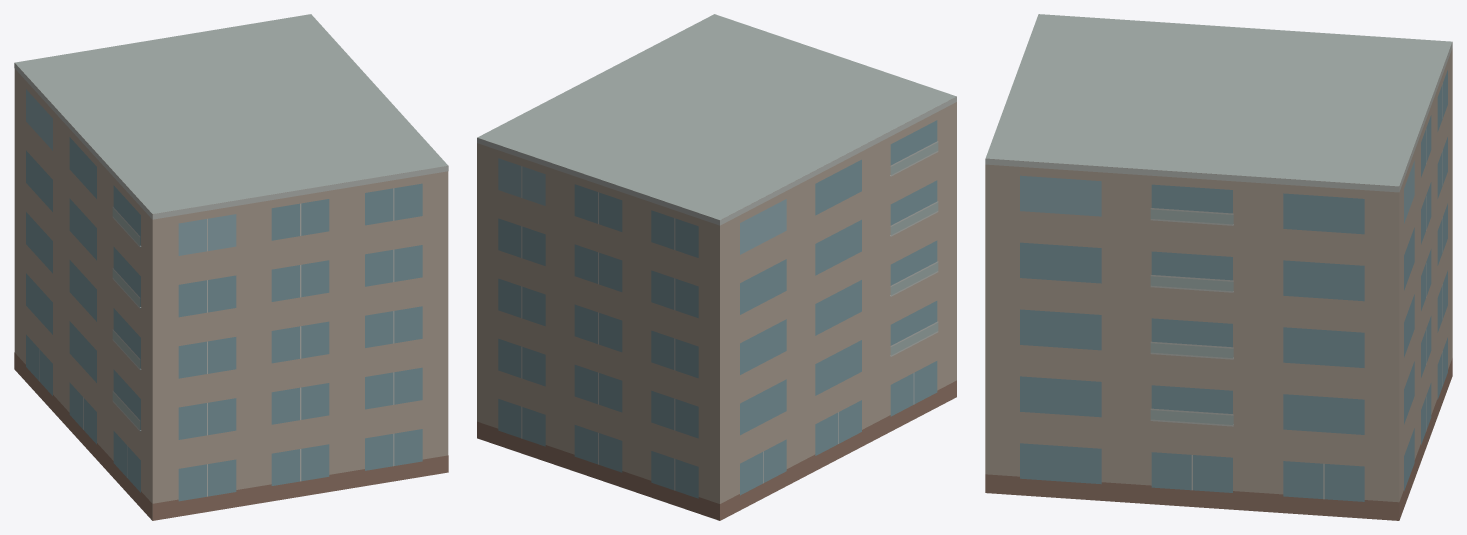
The model's file is survey-upis-33044752.glb.
The picture shows the model from 3 angles, left to right: view 1: azimuth 30°, elevation 25°; view 2: azimuth 150°, elevation 25°; view 3: azimuth 270°, elevation 25°; orthographic projection. The views are drawn at different scales.
Visible parts, largest first — view 1: survey-upis-33044752.tmp; view 2: survey-upis-33044752.tmp; view 3: survey-upis-33044752.tmp.
Part boxes in pixels (x1=…): survey-upis-33044752.tmp: x1=14, y1=14, x2=448, y2=520; survey-upis-33044752.tmp: x1=477, y1=14, x2=956, y2=520; survey-upis-33044752.tmp: x1=985, y1=14, x2=1452, y2=520.
Bounding box in the file's own units: 14.94 × 13.5 × 17.1.
